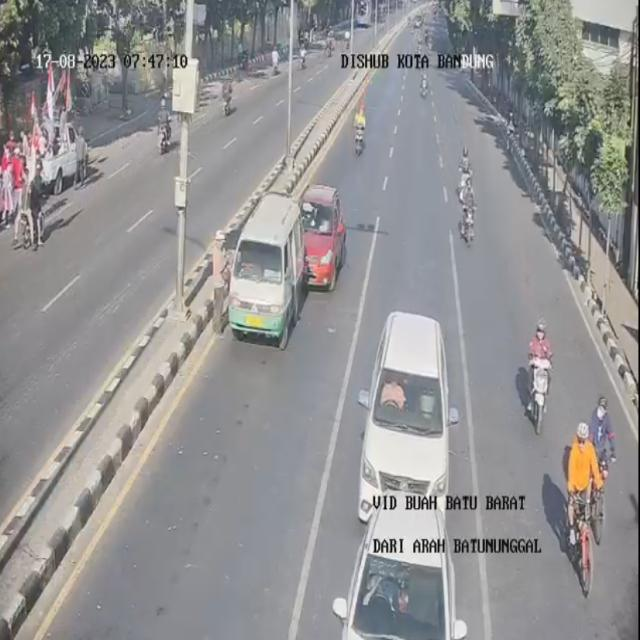cars: (362, 301, 464, 538), (333, 484, 479, 640), (233, 193, 308, 353), (298, 172, 351, 298)
motorcycle: (558, 419, 612, 588), (522, 311, 563, 434), (452, 162, 485, 251), (592, 391, 620, 482), (453, 142, 478, 204), (353, 100, 373, 164), (418, 64, 430, 102)
